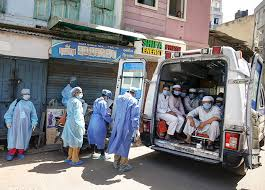mask: (200, 94, 211, 111), (171, 84, 182, 96), (70, 87, 82, 98), (215, 96, 223, 110), (160, 84, 169, 96), (188, 87, 197, 99), (21, 88, 29, 100), (176, 10, 181, 17)
